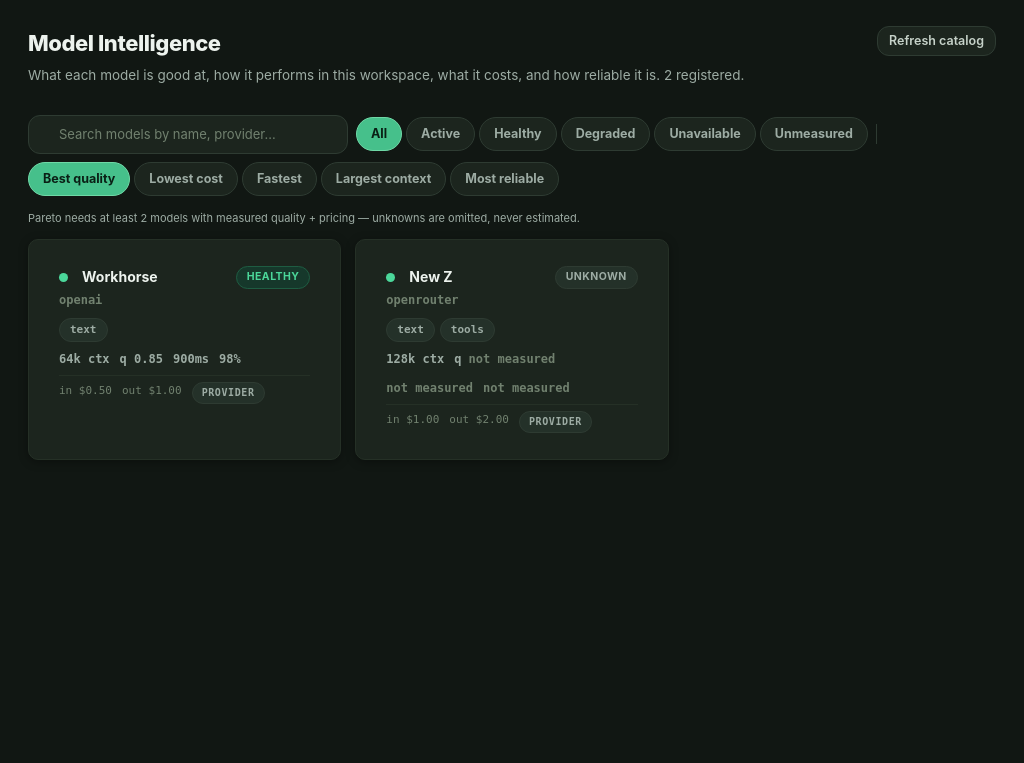
Models: honest provenance › observed models show measured values with OBSERVED provenance
Expected: the element named "Workhorse model card" is shown, [28,239,341,460]
Expected: the text "q 0.85" is shown, [120,350,163,369]
Click the button with aria-label "Expand details for Workhorse".
click(120, 277)  # box [45,254,324,416]
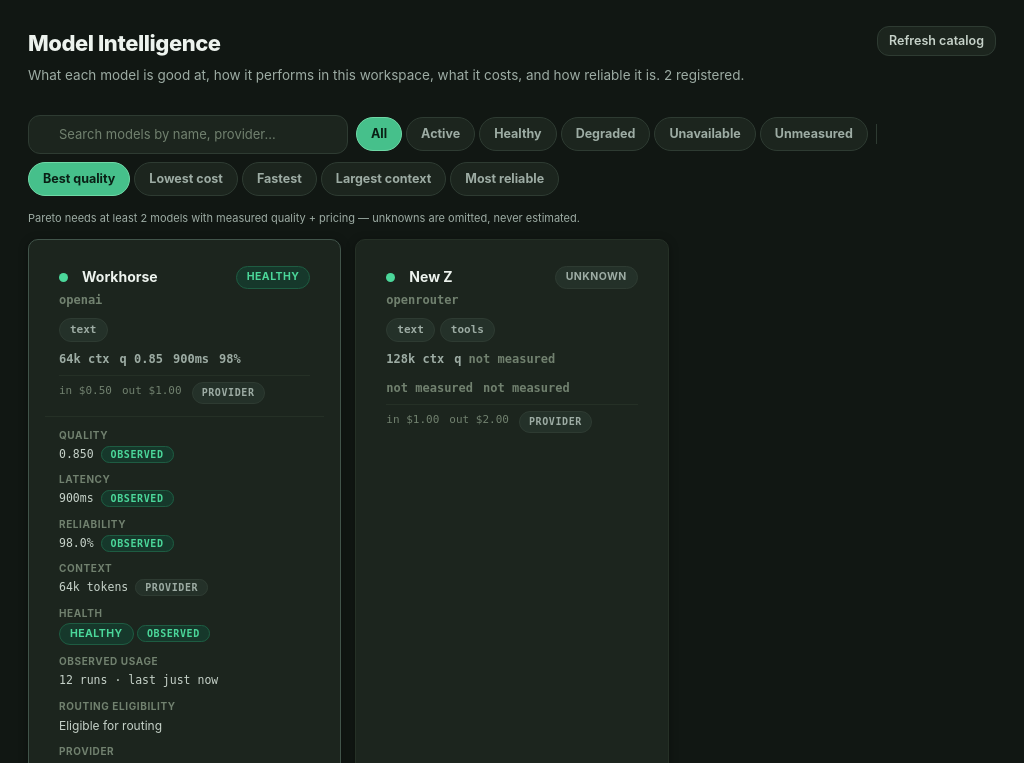
Result: the text "OBSERVED" next to "0.850" is shown at [111,449,164,460]
Result: the text "12 runs · last just now" is shown at [59,673,218,687]
